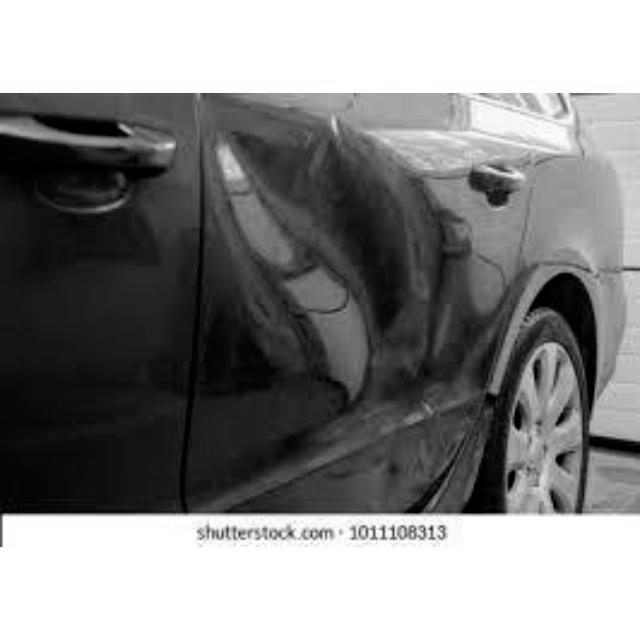doorouter-dent: (194, 94, 492, 529)
